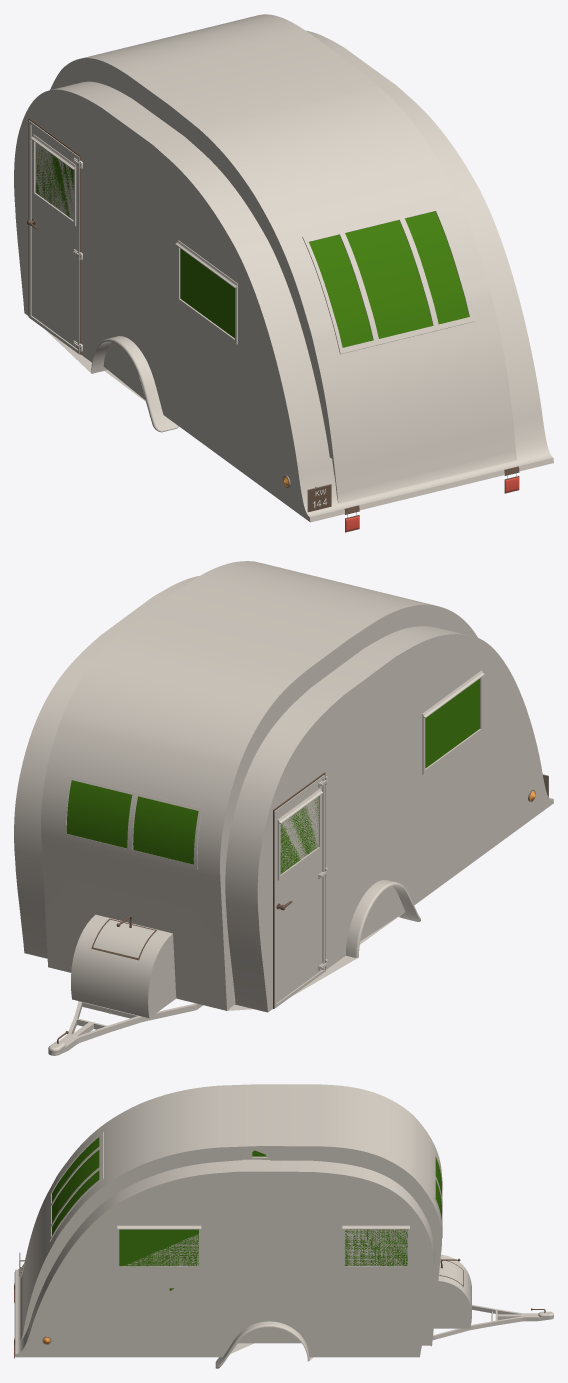
The model's file is Trailer.fbx.
3 views of the same model, one above another, from view 1: azimuth 30°, elevation 25°; view 2: azimuth 150°, elevation 25°; view 3: azimuth 270°, elevation 25° (orthographic). The views are drawn at different scales.
Visible parts, largest first — view 1: Trailer; view 2: Trailer; view 3: Trailer.
Part boxes in pixels (x1,y1,x2,y2): Trailer: [14, 14, 553, 532]; Trailer: [14, 561, 553, 1055]; Trailer: [14, 1084, 553, 1368].
Bounding box in the file's own units: 2.97 × 3.2 × 7.33.
